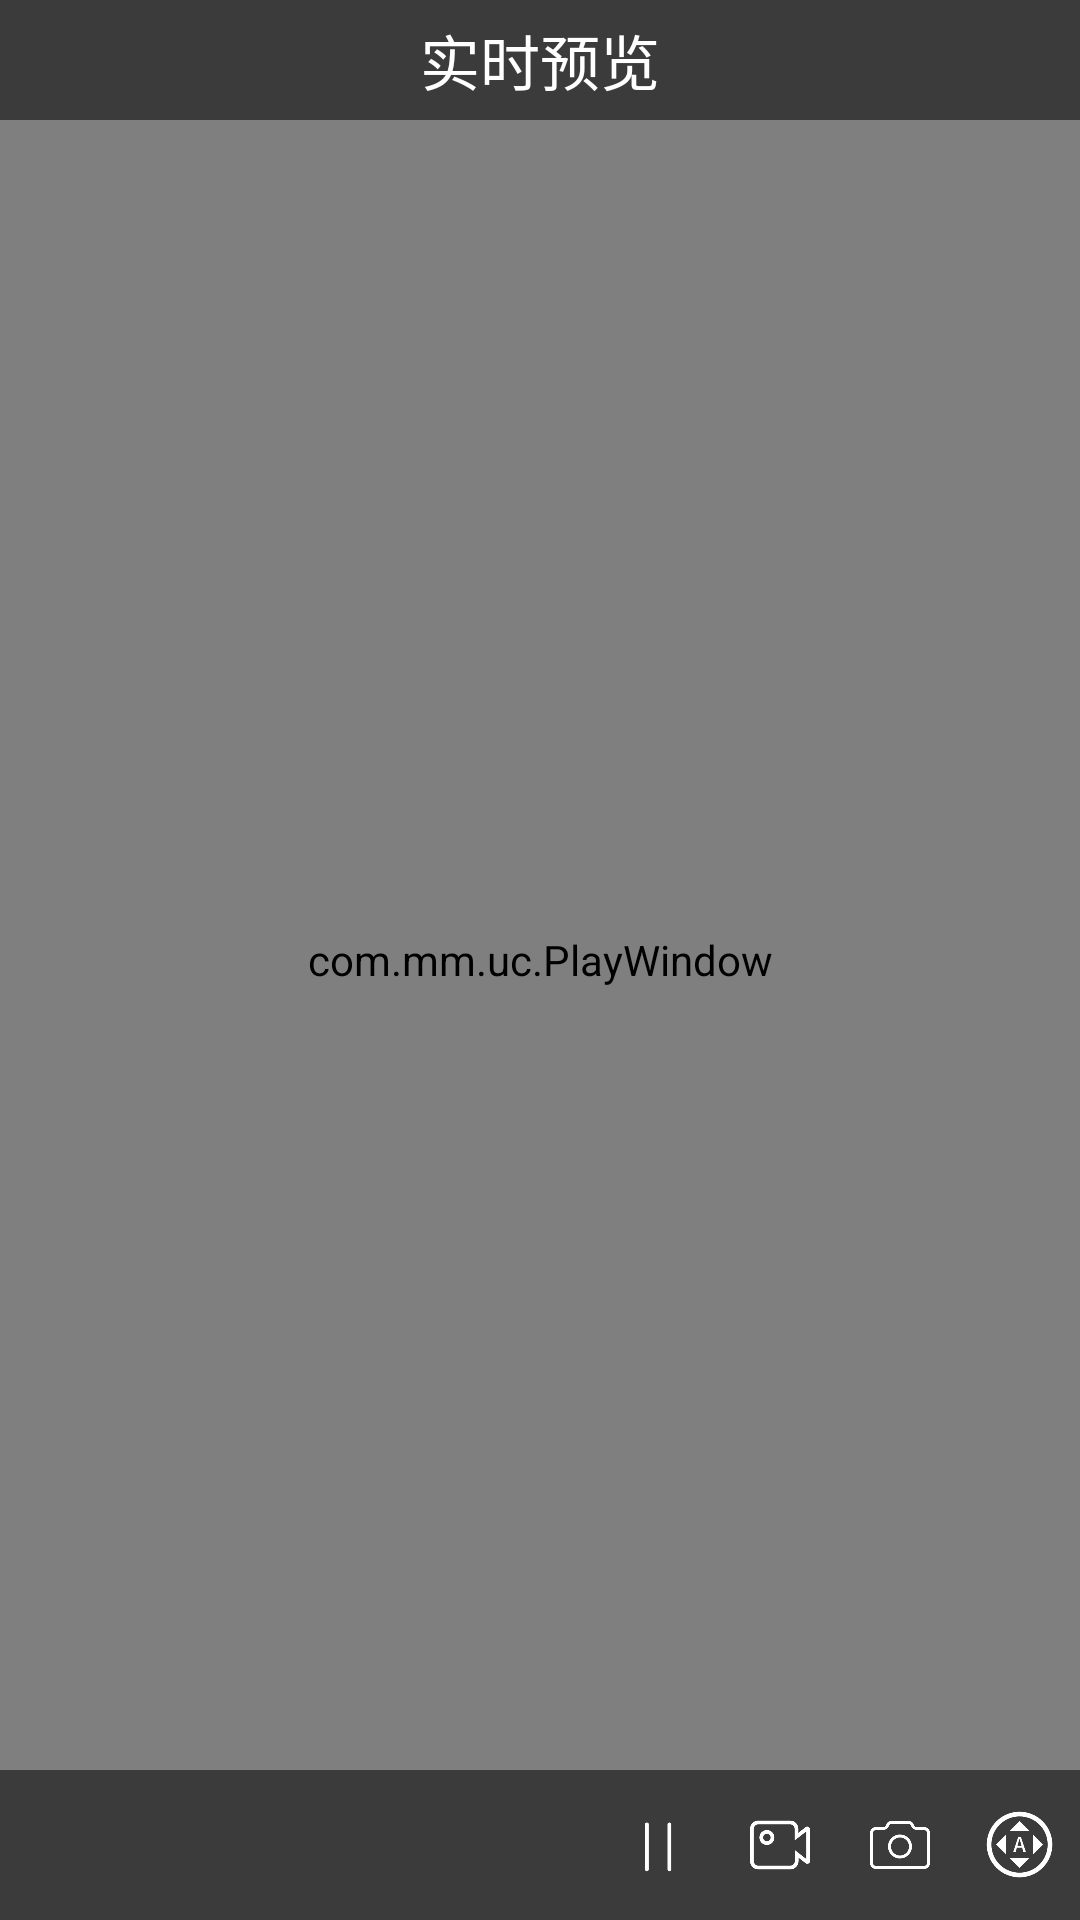

Where icons sit on this 1080px×1920px app screen, as (x1, y1, x2, y2):
checkbox record: (750, 1820, 810, 1870)
